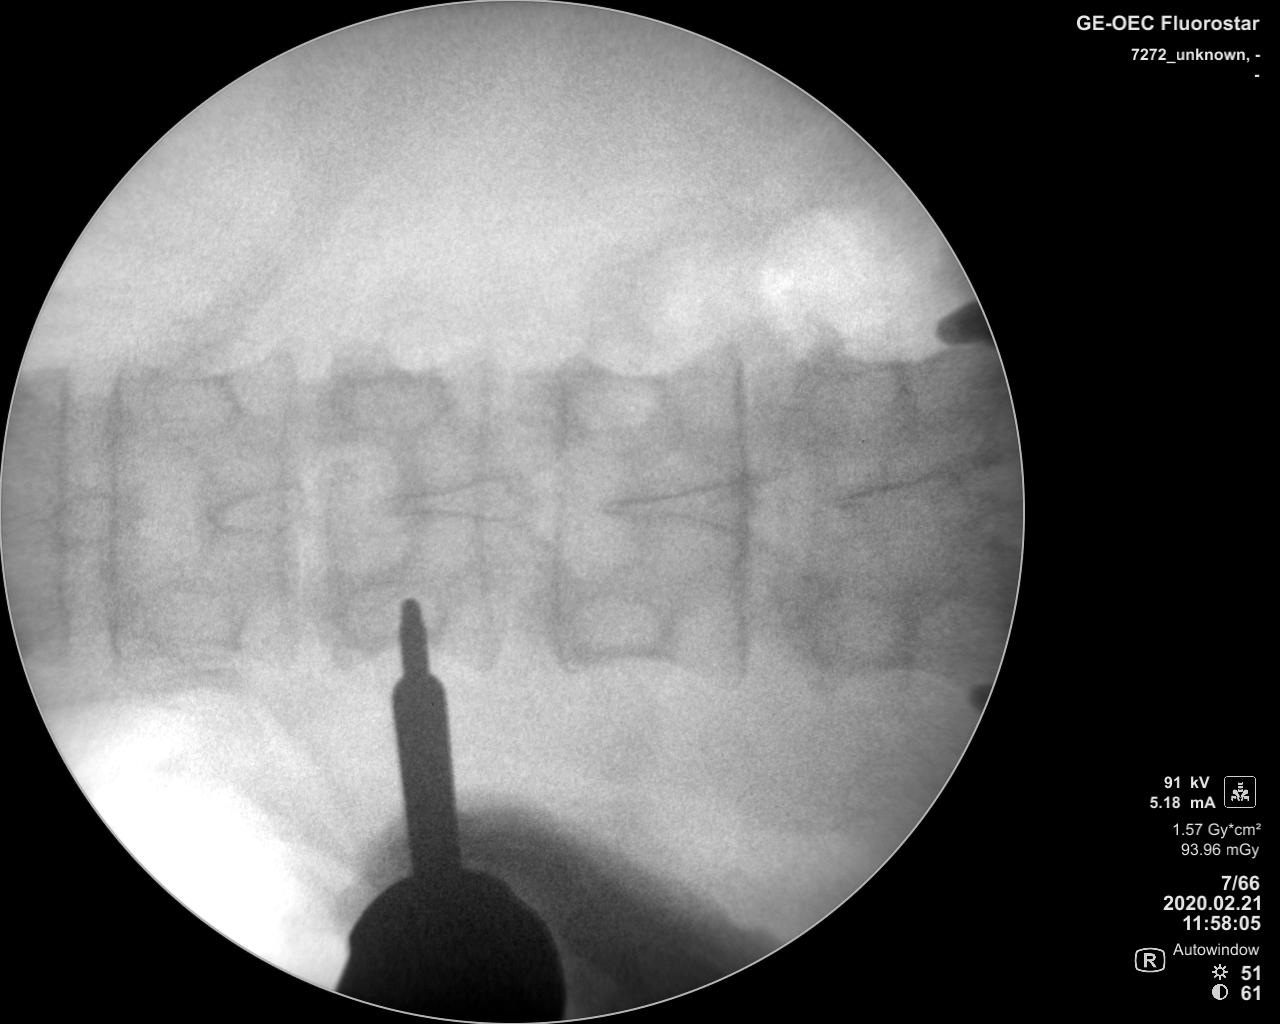eyes: (795, 344, 915, 446), (126, 572, 250, 655), (804, 581, 913, 670), (127, 365, 243, 441), (329, 363, 448, 436), (341, 572, 440, 650), (563, 362, 665, 435), (571, 592, 670, 661)
line: (96, 355, 139, 681), (540, 329, 577, 684), (725, 339, 760, 689), (273, 325, 306, 670), (50, 359, 85, 672), (466, 330, 496, 674)
nose: (818, 465, 970, 529), (603, 478, 765, 536), (376, 470, 530, 526), (191, 478, 311, 540), (25, 491, 141, 546)
